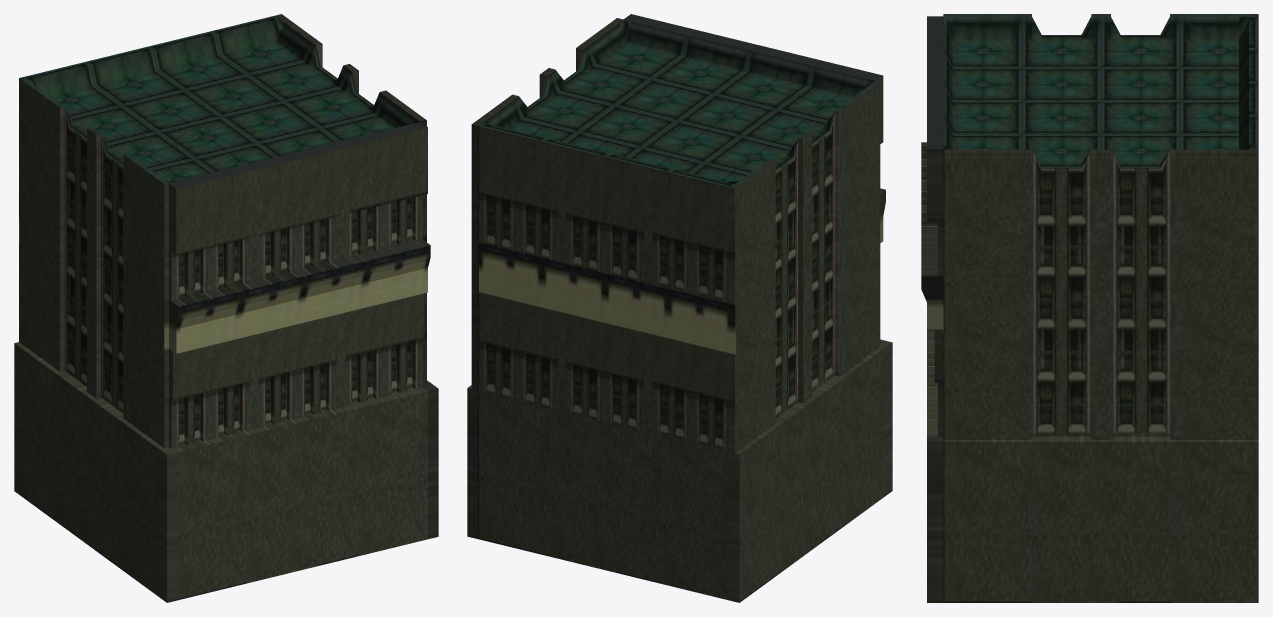
Rendered from outland_building03.fbx.
3 views of the same model, side by side, from view 1: azimuth 30°, elevation 25°; view 2: azimuth 150°, elevation 25°; view 3: azimuth 270°, elevation 25° (orthographic). The views are drawn at different scales.
Visible parts, largest first — view 1: Cube; view 2: Cube; view 3: Cube.
Boxes of the visible parts, left/top/right/bottom form: Cube: left=14, top=14, right=438, bottom=602; Cube: left=467, top=14, right=892, bottom=602; Cube: left=921, top=14, right=1258, bottom=602.
Size of the model in its own units: 2159 by 3130 by 2140.
1 material, 1 textured.
